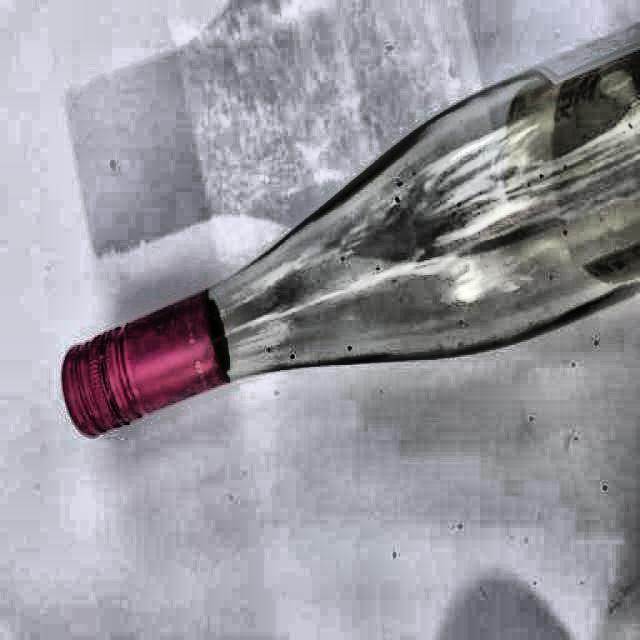glass: (61, 28, 640, 440)
